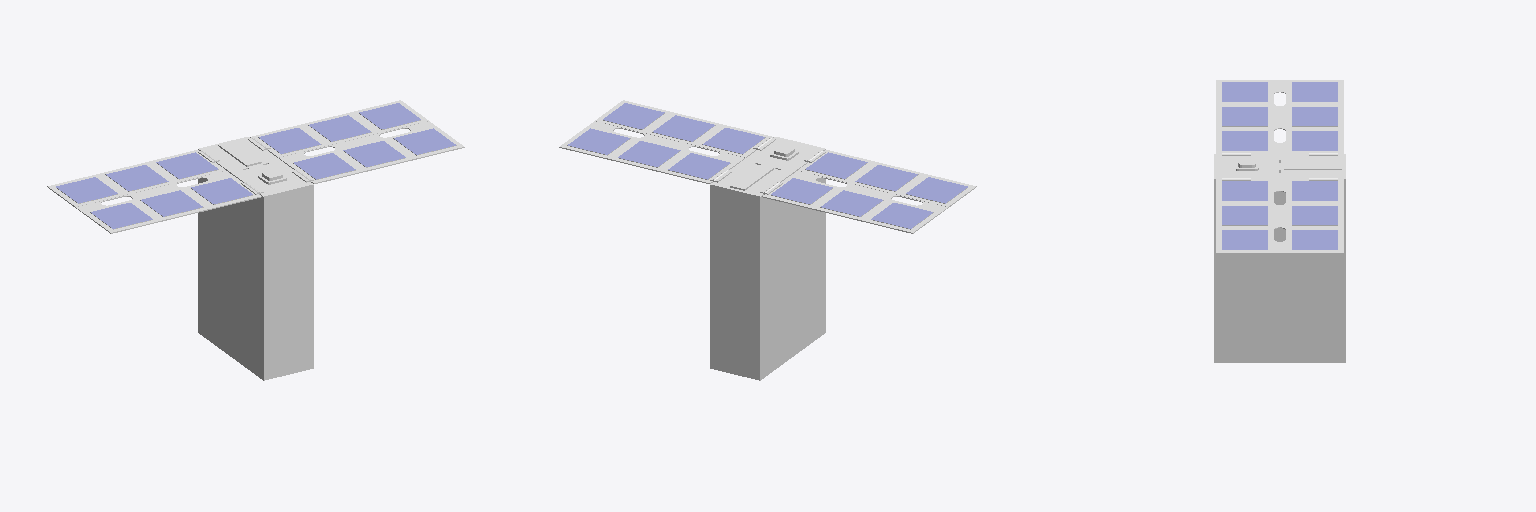
The model's file is 卫星平台.obj.
3 renders of one model, left to right at view 1: azimuth 30°, elevation 25°; view 2: azimuth 150°, elevation 25°; view 3: azimuth 270°, elevation 25°, orthographic.
Visible parts, largest first — view 1: Solid1, Solid1:1; view 2: Solid1, Solid1:1; view 3: Solid1, Solid1:1.
Part boxes in pixels (x1,y1,x2,y2): Solid1: (47,100,464,233); Solid1:1: (198,178,313,380); Solid1: (559,100,976,233); Solid1:1: (710,178,825,380); Solid1: (1214,80,1345,253); Solid1:1: (1214,184,1345,362).
Bounding box in the file's own units: 704 × 360 × 226.